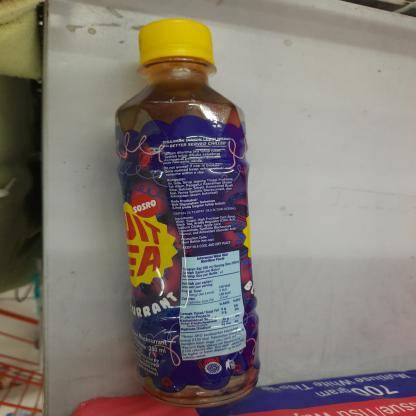bottle: (114, 19, 262, 408)
